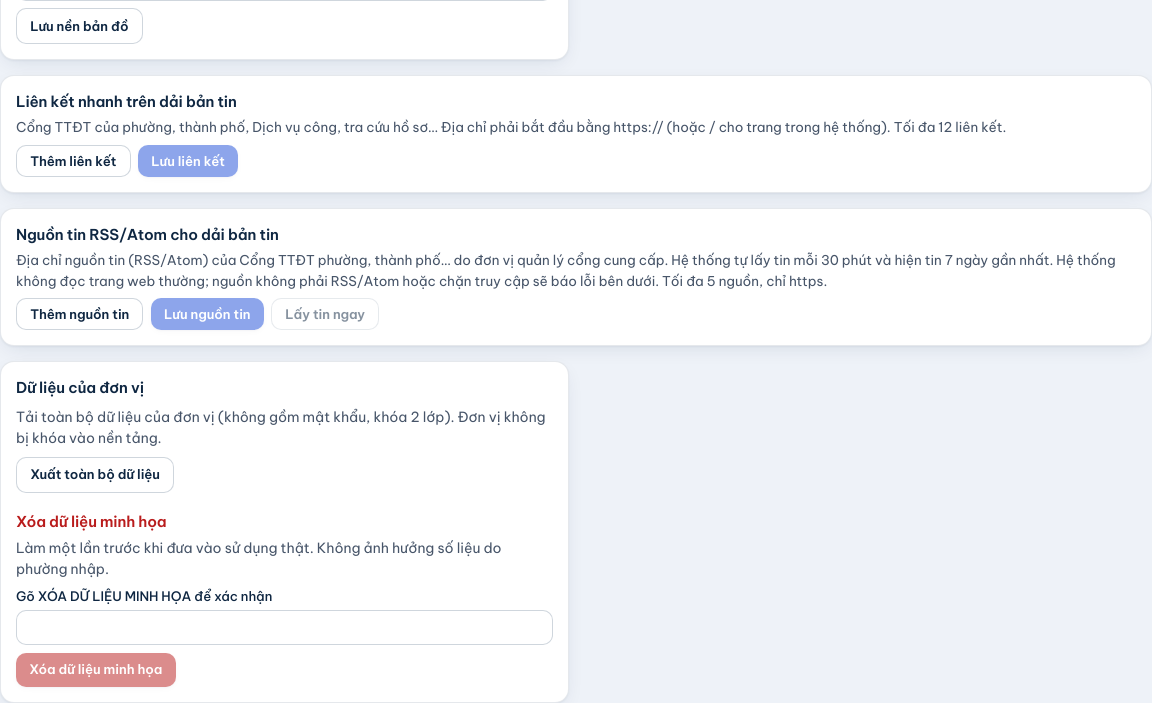
Test case: Quản trị đơn vị › xóa dữ liệu minh họa phải gõ đúng cụm xác nhận
The width and height of the screenshot is (1152, 703).
(page scrolled)
Expected: the button "Xóa dữ liệu minh họa" is disabled, [16,653,176,687]
In the field labelled "Gõ XÓA DỮ LIỆU MINH HỌA để xác nhận": (284, 628) [16,610,552,645], type "XÓA DỮ LIỆU MINH HỌA"
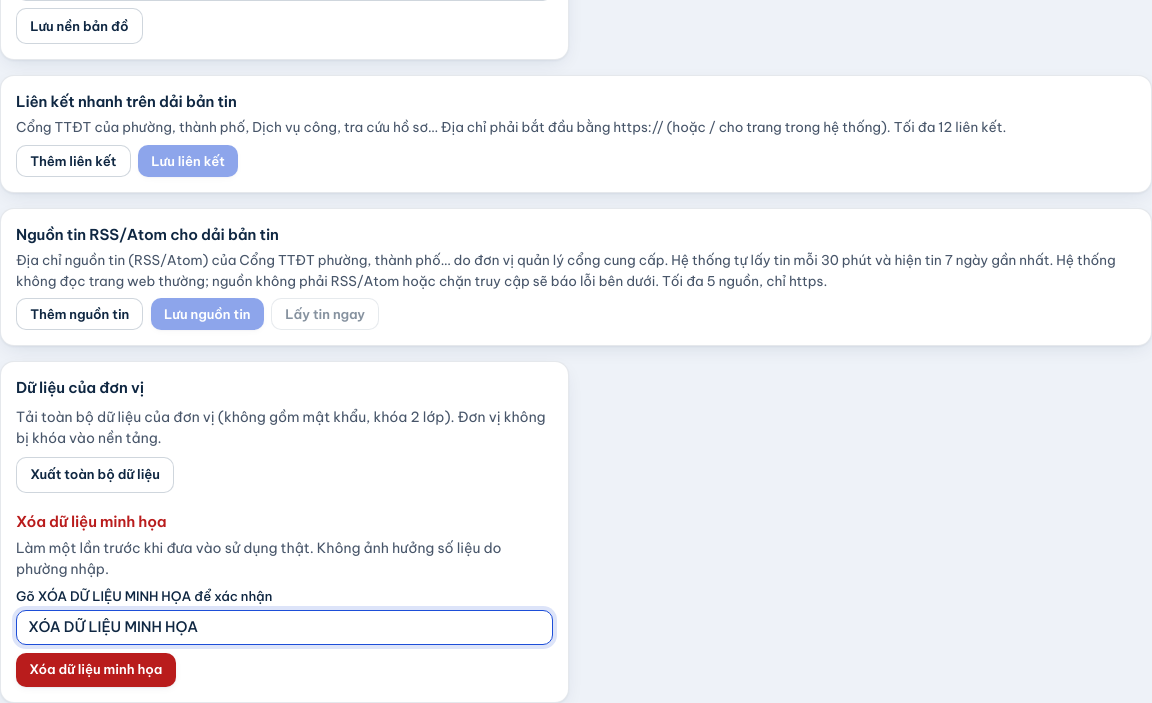
Now the button "Xóa dữ liệu minh họa" is enabled, box [16,653,176,687]
